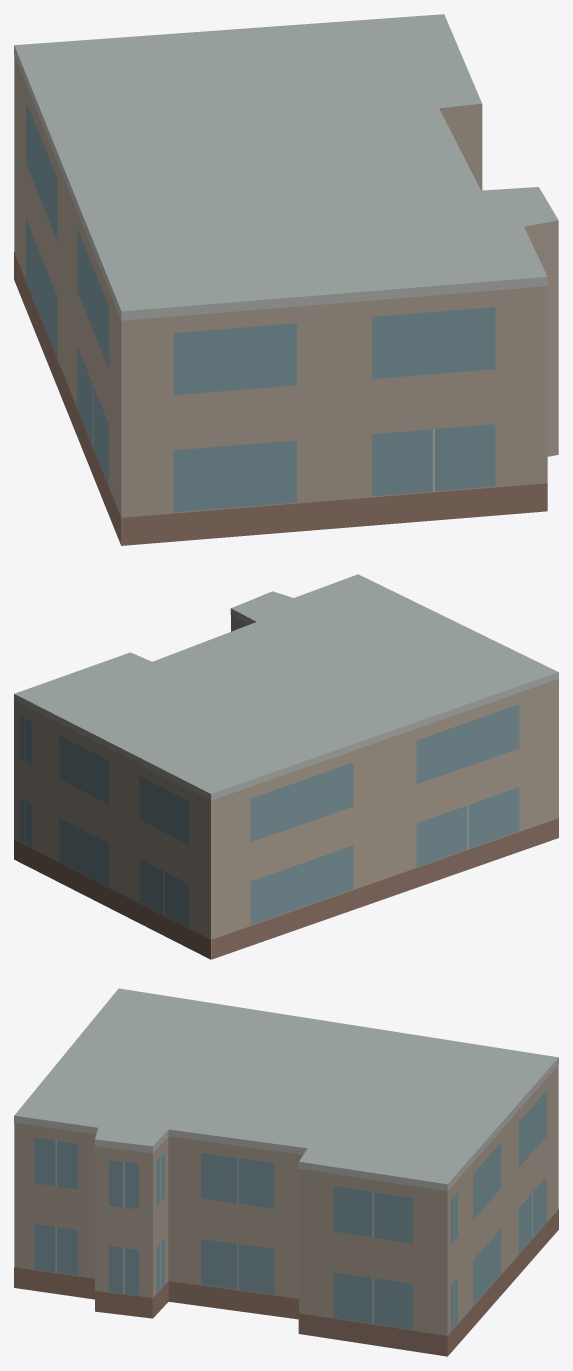
The model's file is survey-upis-32978208.glb.
The picture shows the model from 3 angles, top to bottom: view 1: azimuth 30°, elevation 25°; view 2: azimuth 150°, elevation 25°; view 3: azimuth 270°, elevation 25°; orthographic projection. The views are drawn at different scales.
Visible parts, largest first — view 1: survey-upis-32978208.tmp; view 2: survey-upis-32978208.tmp; view 3: survey-upis-32978208.tmp.
Part boxes in pixels (box(x1,y1,x2,y2)): survey-upis-32978208.tmp: box(14, 14, 558, 545); survey-upis-32978208.tmp: box(14, 574, 558, 959); survey-upis-32978208.tmp: box(14, 988, 558, 1356).
Size of the model in its own units: 14.9 by 6.1 by 17.5.
